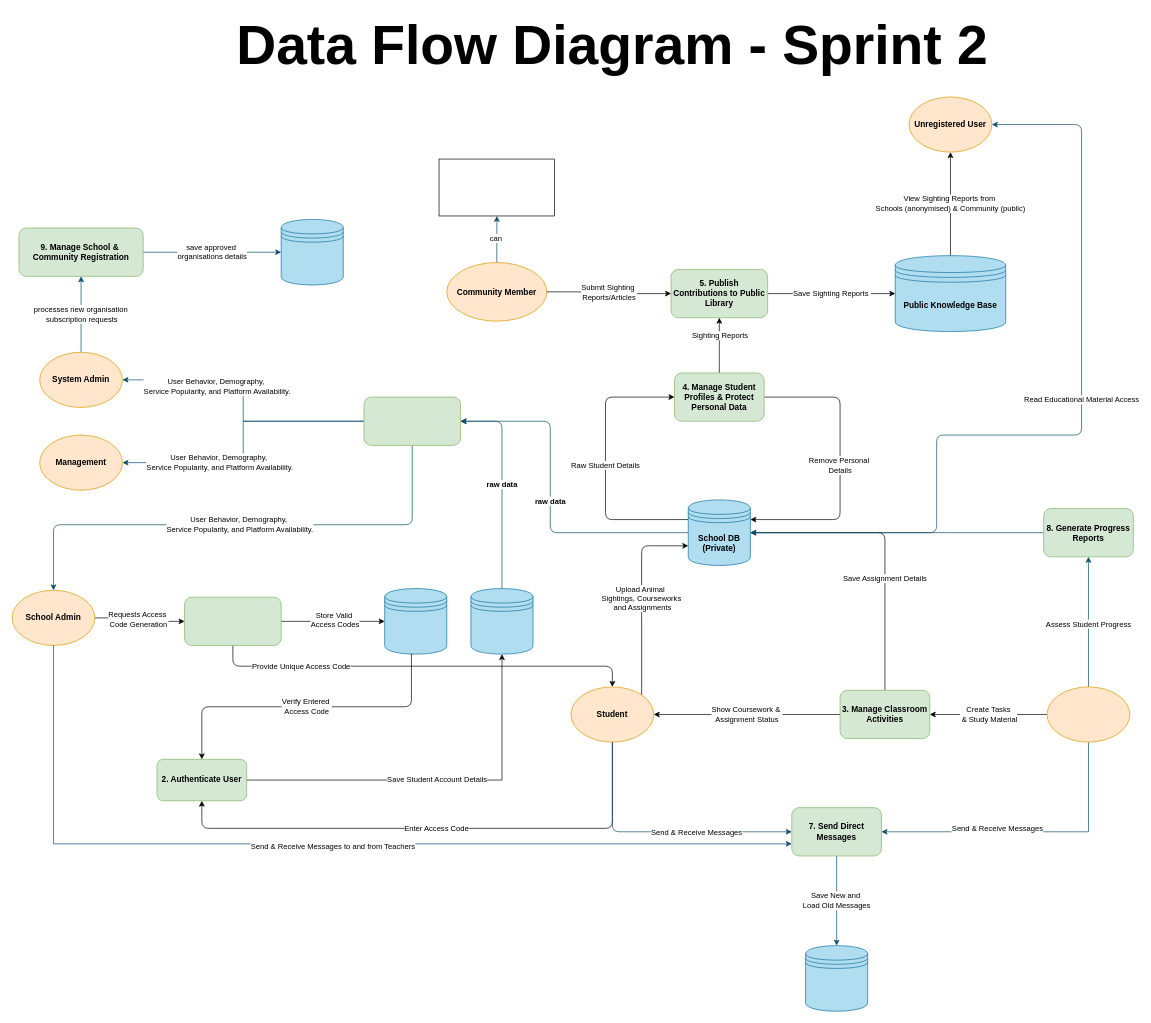
The diagram is 1151 pixels wide and 1023 high, and some of its shapes have lost their labels. Here are the shapes that lost their labels. From the top down, the centre of each, then its label:
(496,187): Maintain Public Profile Page with Contributions Summary
(311,252): Organisation DB
(412,420): 6. Generate Business Dashboard for Analytics
(232,621): 1. Manage Access Codes
(415,621): Access Codes DB
(501,621): User DB
(1088,714): Teacher
(836,978): Messages DB
